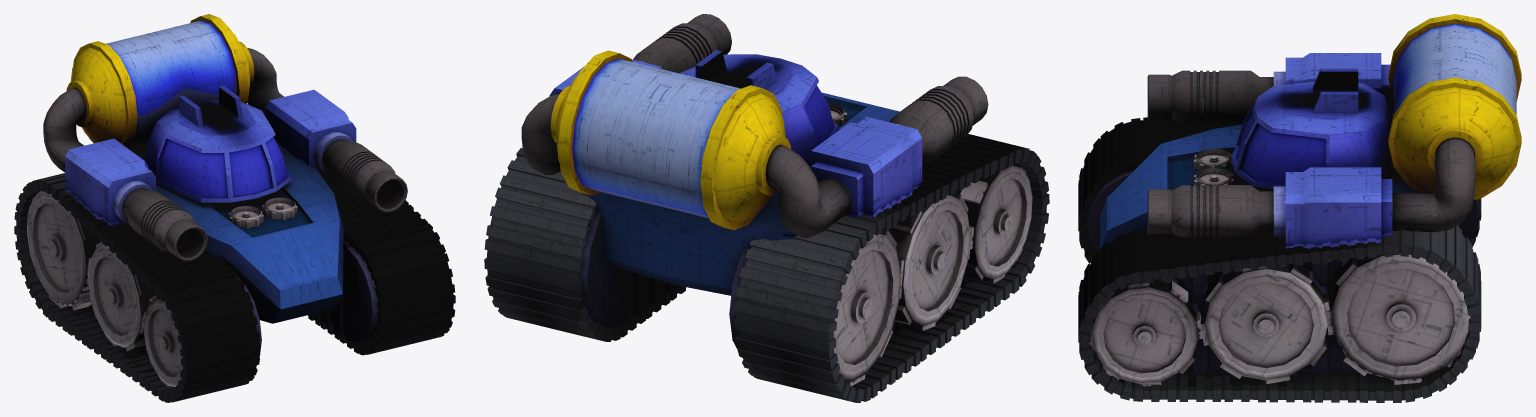
Rendered from PlayerB12.obj.
3 renders of one model, left to right at view 1: azimuth 30°, elevation 25°; view 2: azimuth 150°, elevation 25°; view 3: azimuth 270°, elevation 25°, orthographic. The views are drawn at different scales.
Visible parts, largest first — view 1: Object001, Box042, Object004, Object003, Object002; view 2: Object001, Box042, Object003, Object004, Object002; view 3: Object001, Box042, Object004, Object003, Object002.
Boxes of the visible parts, left/top/right/bottom form: Object001: left=43, top=14, right=407, bottom=356; Box042: left=14, top=173, right=455, bottom=402; Object004: left=27, top=191, right=100, bottom=310; Object003: left=87, top=242, right=154, bottom=351; Object002: left=143, top=295, right=182, bottom=387; Object001: left=521, top=14, right=988, bottom=357; Box042: left=484, top=134, right=1049, bottom=402; Object003: left=891, top=193, right=971, bottom=330; Object004: left=833, top=229, right=901, bottom=386; Object002: left=960, top=164, right=1032, bottom=283; Object001: left=1086, top=14, right=1521, bottom=374; Box042: left=1078, top=117, right=1481, bottom=402; Object004: left=1326, top=254, right=1470, bottom=384; Object003: left=1200, top=263, right=1329, bottom=383; Object002: left=1089, top=279, right=1202, bottom=386.
Size of the model in its own units: 121 by 101 by 147.
Materials: 2 (2 with a texture image).
